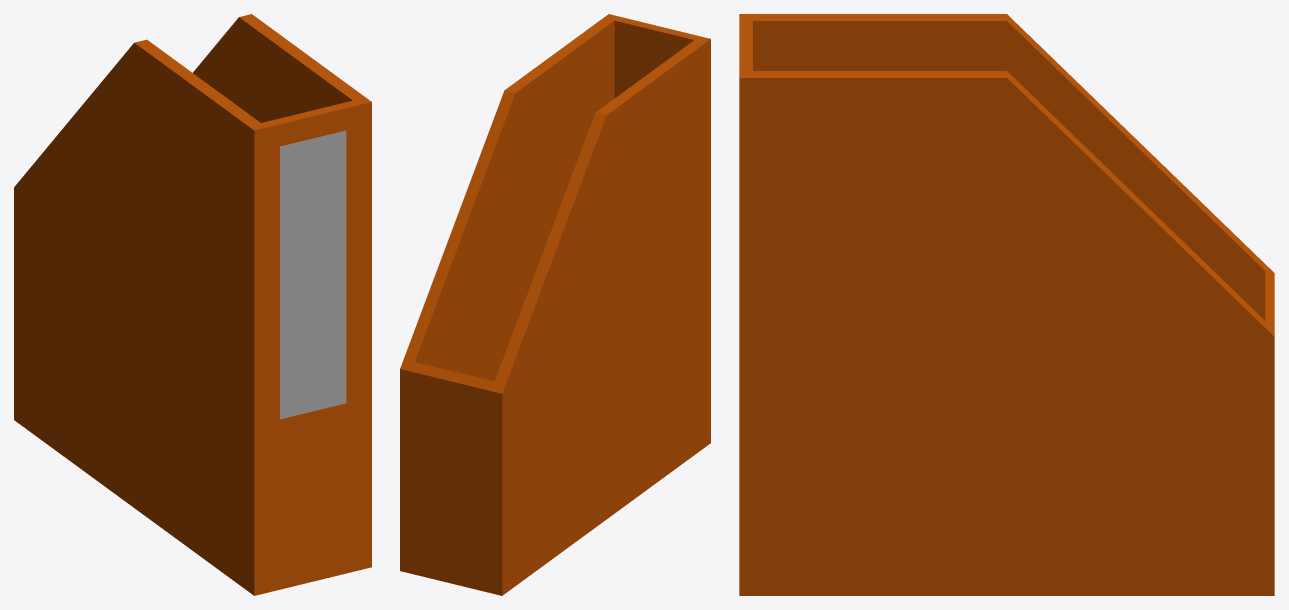
The model's file is FileHolderV1Orange.fbx.
3 views of the same model, side by side, from view 1: azimuth 30°, elevation 25°; view 2: azimuth 150°, elevation 25°; view 3: azimuth 270°, elevation 25° (orthographic). The views are drawn at different scales.
Parts seen in each view (by area): view 1: FileHolderV1Orange; view 2: FileHolderV1Orange; view 3: FileHolderV1Orange.
Boxes of the visible parts, x1,y1,x2,y2 form: FileHolderV1Orange: (14, 14, 371, 595); FileHolderV1Orange: (400, 14, 710, 595); FileHolderV1Orange: (739, 14, 1274, 595).
Size of the model in its own units: 7.39 by 27.94 by 26.15.
